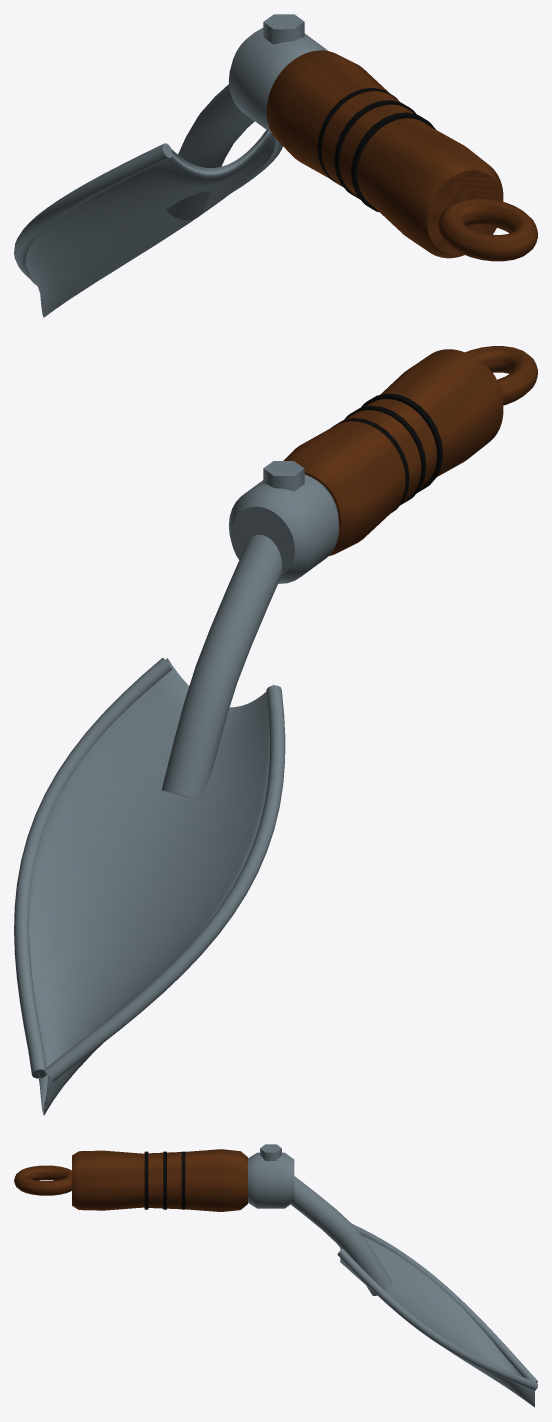
File: HandTrowel.gltf
3 views of the same model, one above another, from view 1: azimuth 30°, elevation 25°; view 2: azimuth 150°, elevation 25°; view 3: azimuth 270°, elevation 25° (orthographic). The views are drawn at different scales.
Parts seen in each view (by area): view 1: HandTrowel__Body; view 2: HandTrowel__Body; view 3: HandTrowel__Body.
Boxes of the visible parts, box(x1,y1,x2,y2) form: HandTrowel__Body: box(14, 14, 537, 317); HandTrowel__Body: box(14, 346, 537, 1115); HandTrowel__Body: box(14, 1144, 537, 1407).
Size of the model in its own units: 0.08 by 0.1623 by 0.2971.
1 material, 1 textured.
